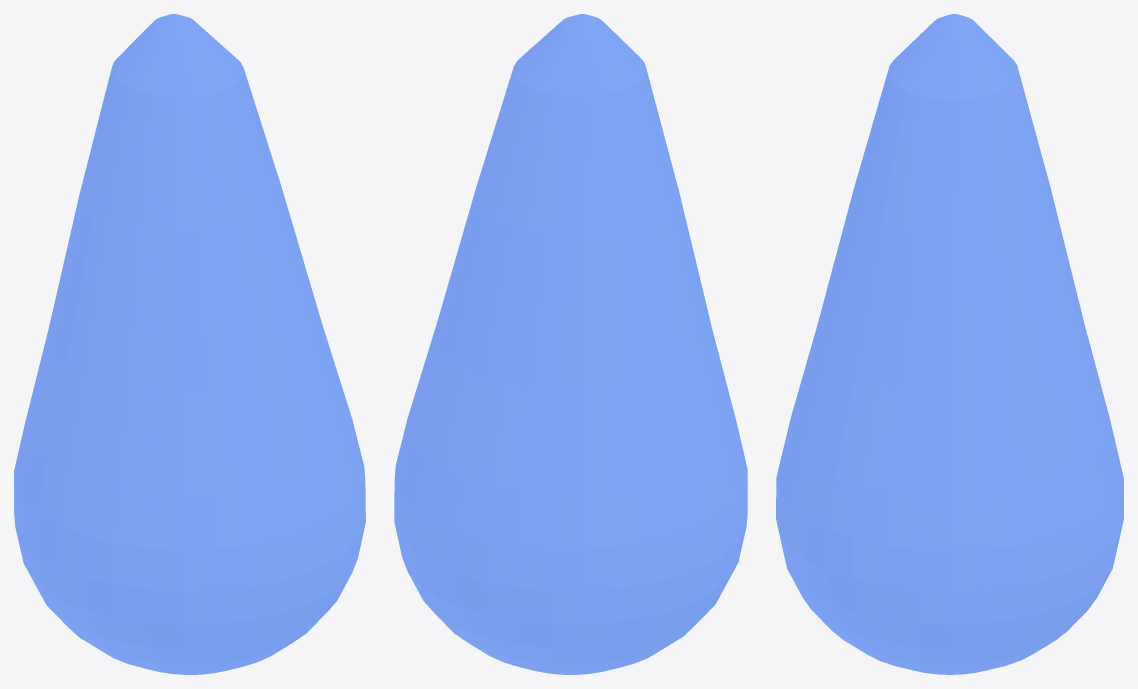
The model's file is goute.glb.
The picture shows the model from 3 angles, left to right: view 1: azimuth 30°, elevation 25°; view 2: azimuth 150°, elevation 25°; view 3: azimuth 270°, elevation 25°; orthographic projection.
Parts seen in each view (by area): view 1: Sphere; view 2: Sphere; view 3: Sphere.
Part boxes in pixels (x1,y1,x2,y2): Sphere: (14,14,365,674); Sphere: (394,14,747,674); Sphere: (776,14,1123,674).
Bounding box in the file's own units: 1.53 × 3.09 × 1.53.
